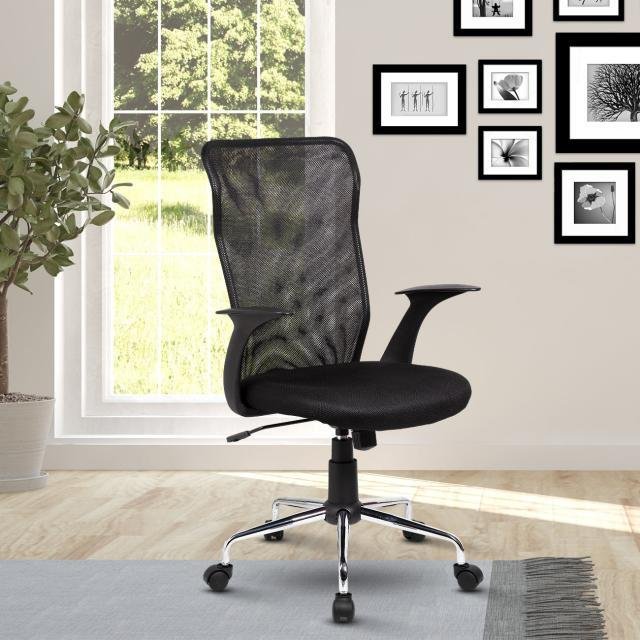chair: (190, 123, 534, 610)
